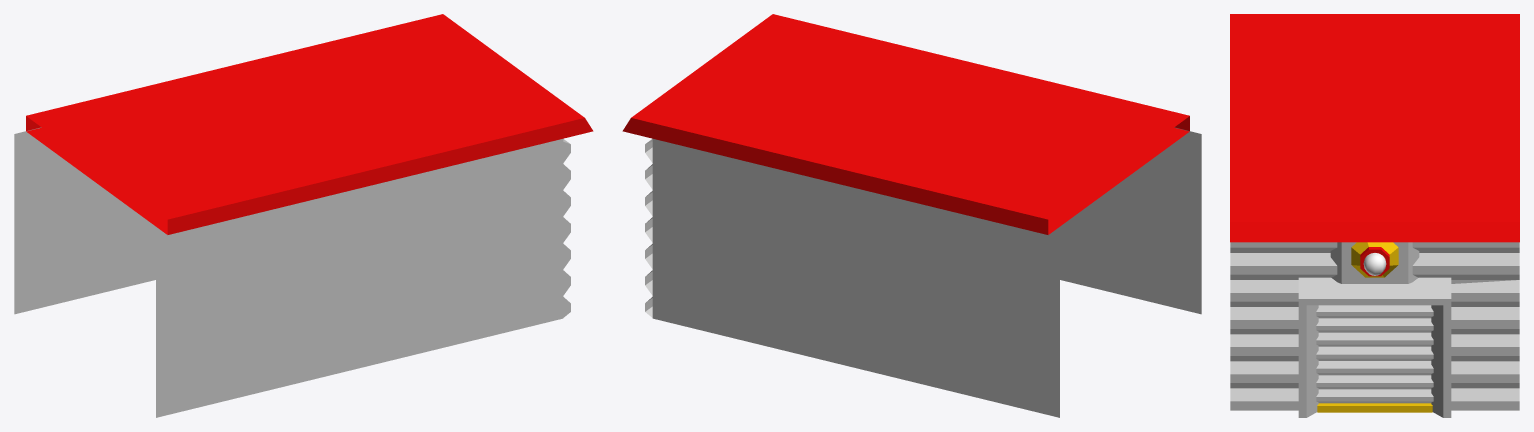
The model's file is WarehouseHouse.fbx.
3 renders of one model, left to right at view 1: azimuth 30°, elevation 25°; view 2: azimuth 150°, elevation 25°; view 3: azimuth 270°, elevation 25°, orthographic. The views are drawn at different scales.
Visible parts, largest first — view 1: Hausu; view 2: Hausu; view 3: Hausu, Dore, Light.
Part boxes in pixels (x1=…): Hausu: x1=14, y1=14, x2=593, y2=417; Hausu: x1=622, y1=14, x2=1201, y2=417; Hausu: x1=1230, y1=14, x2=1519, y2=417; Dore: x1=1316, y1=305, x2=1433, y2=412; Light: x1=1363, y1=253, x2=1386, y2=275.
Bounding box in the file's own units: 1423 × 598 × 785.
